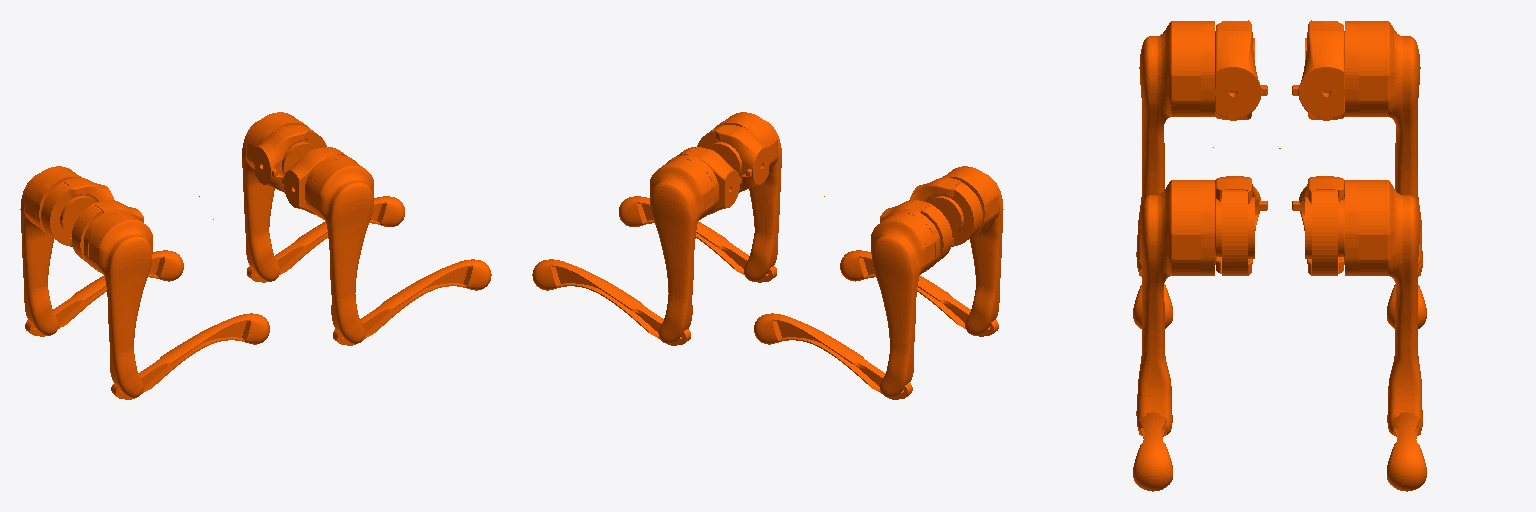
--- What the picture shows (computed from the rendered views, not written in the file) ---
Views: 3 orthographic renders of the robot side by side, from view 1: azimuth 30°, elevation 25°; view 2: azimuth 150°, elevation 25°; view 3: azimuth 270°, elevation 25°.
Model widowGo1 with 36 links and 35 joints (17 revolute, 2 prismatic, 16 fixed), rooted at base, posed joints at zero except 6 at the middle of their limits (widow_left_finger = 0.026, widow_right_finger = -0.026, FR_calf_joint = -1.78, FL_calf_joint = -1.78, RR_calf_joint = -1.78, RL_calf_joint = -1.78).
Links seen in each view (by area): view 1: RR_thigh, FR_thigh, RL_thigh, FL_thigh, RR_calf, FR_calf, FL_hip, RL_hip, RL_calf, FL_calf, FR_hip, RR_hip; view 2: RL_thigh, FL_thigh, RR_thigh, FR_thigh, RL_calf, FL_calf, FR_hip, RR_hip, RR_calf, FR_calf, FL_hip, RL_hip; view 3: FR_thigh, FL_thigh, RR_thigh, RL_thigh, FR_hip, FL_hip, RR_hip, RL_hip, FR_calf, FL_calf, RR_calf, RL_calf.
Link boxes in pixels (<box>): RR_thigh: <box>84,209,152,397</box>; FR_thigh: <box>305,155,373,343</box>; RL_thigh: <box>20,166,81,335</box>; FL_thigh: <box>242,112,308,281</box>; RR_calf: <box>111,313,269,399</box>; FR_calf: <box>333,259,491,345</box>; FL_hip: <box>255,125,326,192</box>; RL_hip: <box>41,177,114,246</box>; RL_calf: <box>25,250,183,336</box>; FL_calf: <box>247,196,404,282</box>; FR_hip: <box>282,147,347,214</box>; RR_hip: <box>72,200,143,262</box>; RL_thigh: <box>871,209,939,397</box>; FL_thigh: <box>650,155,718,343</box>; RR_thigh: <box>942,166,1003,335</box>; FR_thigh: <box>715,112,781,281</box>; RL_calf: <box>754,313,912,399</box>; FL_calf: <box>532,259,690,345</box>; FR_hip: <box>697,125,768,192</box>; RR_hip: <box>909,177,982,246</box>; RR_calf: <box>840,250,998,336</box>; FR_calf: <box>619,196,776,282</box>; FL_hip: <box>676,147,741,214</box>; RL_hip: <box>880,200,951,262</box>; FR_thigh: <box>1136,180,1214,435</box>; FL_thigh: <box>1345,180,1422,435</box>; RR_thigh: <box>1136,21,1214,271</box>; RL_thigh: <box>1345,21,1422,271</box>; FR_hip: <box>1215,176,1267,275</box>; FL_hip: <box>1292,176,1344,275</box>; RR_hip: <box>1215,20,1267,120</box>; RL_hip: <box>1292,20,1344,120</box>; FR_calf: <box>1133,412,1172,491</box>; FL_calf: <box>1387,412,1426,491</box>; RR_calf: <box>1133,258,1172,328</box>; RL_calf: <box>1387,258,1426,328</box>.
Bounding box of the posed robot: 0.6549 × 0.294 × 0.2793 m (x, y, z).
Meshes: 14 distinct files referenced, 12 mesh visuals loaded (4 Collada DAE); not drawn: 11 (reference not matched to a file when rendering).

URDF robot description (widowGo1):
<?xml version="1.0" ?>
<!-- =================================================================================== -->
<!-- |    This document was autogenerated by xacro from robot.xacro                    | -->
<!-- |    EDITING THIS FILE BY HAND IS NOT RECOMMENDED                                 | -->
<!-- =================================================================================== -->
<robot name="widowGo1">
  <material name="black">
    <color rgba="0.0 0.0 0.0 1.0"/>
  </material>
  <material name="blue">
    <color rgba="0.0 0.0 0.8 1.0"/>
  </material>
  <material name="green">
    <color rgba="0.0 0.8 0.0 1.0"/>
  </material>
  <material name="grey">
    <color rgba="0.2 0.2 0.2 1.0"/>
  </material>
  <material name="silver">
    <color rgba="0.913725490196 0.913725490196 0.847058823529 1.0"/>
  </material>
  <material name="orange">
    <color rgba="1.0 0.423529411765 0.0392156862745 1.0"/>
  </material>
  <material name="brown">
    <color rgba="0.870588235294 0.811764705882 0.764705882353 1.0"/>
  </material>
  <material name="red">
    <color rgba="0.8 0.0 0.0 1.0"/>
  </material>
  <material name="white">
    <color rgba="1.0 1.0 1.0 1.0"/>
  </material>
  <!-- ros_control plugin -->
  <gazebo>
    <plugin filename="libgazebo_ros_control.so" name="gazebo_ros_control">
      <robotNamespace>/go1_gazebo</robotNamespace>
      <robotSimType>gazebo_ros_control/DefaultRobotHWSim</robotSimType>
    </plugin>
  </gazebo>
  <!-- Show the trajectory of trunk center. -->
  <gazebo>
    <plugin filename="libLinkPlot3DPlugin.so" name="3dplot">
      <frequency>10</frequency>
      <plot>
        <link>base</link>
        <pose>0 0 0 0 0 0</pose>
        <material>Gazebo/Yellow</material>
      </plot>
    </plugin>
  </gazebo>
  <!-- Show the trajectory of foot. You can add another trajectory about another foot. -->
  <!-- <gazebo>
        <plugin name="3dplot" filename="libLinkPlot3DPlugin.so">
            <frequency>100</frequency>
            <plot>
                <link>FL_foot</link>
                <pose>0 0 0 0 0 0</pose>
                <material>Gazebo/Green</material>
            </plot>
        </plugin>
    </gazebo> -->
  <gazebo>
    <plugin filename="libgazebo_ros_force.so" name="gazebo_ros_force">
      <bodyName>trunk</bodyName>
      <topicName>/apply_force/trunk</topicName>
    </plugin>
  </gazebo>
  <gazebo reference="imu_link">
    <gravity>true</gravity>
    <sensor name="imu_sensor" type="imu">
      <always_on>true</always_on>
      <update_rate>1000</update_rate>
      <visualize>true</visualize>
      <topic>__default_topic__</topic>
      <plugin filename="libgazebo_ros_imu_sensor.so" name="imu_plugin">
        <topicName>trunk_imu</topicName>
        <bodyName>imu_link</bodyName>
        <updateRateHZ>1000.0</updateRateHZ>
        <gaussianNoise>0.0</gaussianNoise>
        <xyzOffset>0 0 0</xyzOffset>
        <rpyOffset>0 0 0</rpyOffset>
        <frameName>imu_link</frameName>
      </plugin>
      <pose>0 0 0 0 0 0</pose>
    </sensor>
  </gazebo>
  <!-- Depth camera -->
  <!-- <gazebo>
        <plugin name="camera_plugin" filename="libgazebo_ros_openni_kinect.so">
            <baseline>0.025</baseline>
            <always_on>true</always_on>
            <updateRate>0.0</updateRate>
            <cameraName>unitree_camera_left</cameraName>
            <frameName>depthCamera_link_left</frameName>
            <imageTopicName>rgb/imageRaw_left</imageTopicName>
            <depthImageTopicName>depth/imageRaw_left</depthImageTopicName>
            <pointCloudTopicName>depth/points_left</pointCloudTopicName>
            <cameraInfoTopicName>rgb/cameraInfo_left</cameraInfoTopicName>              
            <depthImageCameraInfoTopicName>depth/cameraInfo_left</depthImageCameraInfoTopicName>            
            <pointCloudCutoff>0.1</pointCloudCutoff>                
            <pointCloudCutoffMax>1.5</pointCloudCutoffMax>                
            <distortionK1>0.0</distortionK1>
            <distortionK2>0.0</distortionK2>
            <distortionK3>0.0</distortionK3>
            <distortionT1>0.0</distortionT1>
            <distortionT2>0.0</distortionT2>
            <CxPrime>0.0</CxPrime>
            <Cx>0.0045</Cx>
            <Cy>0.0039</Cy>
            <focalLength>0.004</focalLength>
            <hackBaseline>0.0</hackBaseline>
        </plugin>
    </gazebo> -->
  <!-- <gazebo reference="depthCamera_link_left">
        <sensor name="unitree_camera_left" type="depth_camera">
            <update_rate>16</update_rate>
            <always_on>true</always_on>
            <visualize>true</visualize>
            <camera>
                <horizontal_fov>2.094</horizontal_fov>
                <image>
                    <width>928</width>
                    <height>800</height>
                    <format>R8G8B8</format>
                </image>
                <depth_camera></depth_camera>
                <clip>
                    <near>0.1</near>
                    <far>100</far>
                </clip>
            </camera>
            <plugin name="camera_plugin" filename="libgazebo_ros_openni_kinect.so">
                <baseline>0.025</baseline>
                <always_on>true</always_on>
                <updateRate>0.0</updateRate>
                <cameraName>unitree_camera_left</cameraName>
                <frameName>depthCamera_link_left</frameName>
                <imageTopicName>rgb/imageRaw_left</imageTopicName>
                <depthImageTopicName>depth/imageRaw_left</depthImageTopicName>
                <pointCloudTopicName>depth/points_left</pointCloudTopicName>
                <cameraInfoTopicName>rgb/cameraInfo_left</cameraInfoTopicName>              
                <depthImageCameraInfoTopicName>depth/cameraInfo_left</depthImageCameraInfoTopicName>            
                <pointCloudCutoff>0.1</pointCloudCutoff>                
                <pointCloudCutoffMax>1.5</pointCloudCutoffMax>                
                <distortionK1>0.0</distortionK1>
                <distortionK2>0.0</distortionK2>
                <distortionK3>0.0</distortionK3>
                <distortionT1>0.0</distortionT1>
                <distortionT2>0.0</distortionT2>
                <CxPrime>0.0</CxPrime>
                <Cx>0.0045</Cx>
                <Cy>0.0039</Cy>
                <focalLength>0.004</focalLength>
                <hackBaseline>0.0</hackBaseline>
            </plugin>
        </sensor>
    </gazebo> -->
  <gazebo reference="depthCamera_link_left">
    <sensor name="camera_link_camera" type="depth">
      <update_rate>20</update_rate>
      <camera>
        <horizontal_fov>1.047198</horizontal_fov>
        <image>
          <width>640</width>
          <height>480</height>
          <format>R8G8B8</format>
        </image>
        <clip>
          <near>0.05</near>
          <far>3</far>
        </clip>
      </camera>
      <plugin filename="libgazebo_ros_openni_kinect.so" name="camera_link_controller">
        <baseline>0.2</baseline>
        <alwaysOn>true</alwaysOn>
        <updateRate>1.0</updateRate>
        <cameraName>camera_link_ir</cameraName>
        <imageTopicName>/camera_link/color/image_raw</imageTopicName>
        <cameraInfoTopicName>/camera_link/color/camera_info</cameraInfoTopicName>
        <depthImageTopicName>/camera_link/depth/image_raw</depthImageTopicName>
        <depthImageInfoTopicName>/camera_link/depth/camera_info</depthImageInfoTopicName>
        <pointCloudTopicName>/camera_link/depth/points</pointCloudTopicName>
        <frameName>depthCamera_link_left</frameName>
        <pointCloudCutoff>0.5</pointCloudCutoff>
        <pointCloudCutoffMax>3.0</pointCloudCutoffMax>
        <distortionK1>0.00000001</distortionK1>
        <distortionK2>0.00000001</distortionK2>
        <distortionK3>0.00000001</distortionK3>
        <distortionT1>0.00000001</distortionT1>
        <distortionT2>0.00000001</distortionT2>
        <CxPrime>0</CxPrime>
        <Cx>0</Cx>
        <Cy>0</Cy>
        <focalLength>0</focalLength>
        <hackBaseline>0</hackBaseline>
      </plugin>
    </sensor>
  </gazebo>
  <!-- Foot contacts. -->
  <gazebo reference="FR_calf">
    <sensor name="FR_foot_contact" type="contact">
      <update_rate>100</update_rate>
      <plugin filename="libunitreeFootContactPlugin.so" name="contactPlugin"/>
      <contact>
        <collision>FR_calf_fixed_joint_lump__FR_foot_collision_1</collision>
      </contact>
    </sensor>
  </gazebo>
  <gazebo reference="FL_calf">
    <sensor name="FL_foot_contact" type="contact">
      <update_rate>100</update_rate>
      <plugin filename="libunitreeFootContactPlugin.so" name="contactPlugin"/>
      <contact>
        <collision>FL_calf_fixed_joint_lump__FL_foot_collision_1</collision>
      </contact>
    </sensor>
  </gazebo>
  <gazebo reference="RR_calf">
    <sensor name="RR_foot_contact" type="contact">
      <update_rate>100</update_rate>
      <plugin filename="libunitreeFootContactPlugin.so" name="contactPlugin"/>
      <contact>
        <collision>RR_calf_fixed_joint_lump__RR_foot_collision_1</collision>
      </contact>
    </sensor>
  </gazebo>
  <gazebo reference="RL_calf">
    <sensor name="RL_foot_contact" type="contact">
      <update_rate>100</update_rate>
      <plugin filename="libunitreeFootContactPlugin.so" name="contactPlugin"/>
      <contact>
        <collision>RL_calf_fixed_joint_lump__RL_foot_collision_1</collision>
      </contact>
    </sensor>
  </gazebo>
  <!-- Visualization of Foot contacts. -->
  <gazebo reference="FR_foot">
    <visual>
      <plugin filename="libunitreeDrawForcePlugin.so" name="drawForcePlugin">
        <topicName>FR_foot_contact</topicName>
      </plugin>
    </visual>
  </gazebo>
  <gazebo reference="FL_foot">
    <visual>
      <plugin filename="libunitreeDrawForcePlugin.so" name="drawForcePlugin">
        <topicName>FL_foot_contact</topicName>
      </plugin>
    </visual>
  </gazebo>
  <gazebo reference="RR_foot">
    <visual>
      <plugin filename="libunitreeDrawForcePlugin.so" name="drawForcePlugin">
        <topicName>RR_foot_contact</topicName>
      </plugin>
    </visual>
  </gazebo>
  <gazebo reference="RL_foot">
    <visual>
      <plugin filename="libunitreeDrawForcePlugin.so" name="drawForcePlugin">
        <topicName>RL_foot_contact</topicName>
      </plugin>
    </visual>
  </gazebo>
  <gazebo reference="base">
    <material>Gazebo/Green</material>
    <turnGravityOff>false</turnGravityOff>
  </gazebo>
  <gazebo reference="trunk">
    <mu1>0.2</mu1>
    <mu2>0.2</mu2>
    <kp value="1000000.0"/>
    <kd value="1.0"/>
  </gazebo>
  <gazebo reference="stick_link">
    <mu1>0.2</mu1>
    <mu2>0.2</mu2>
    <material>Gazebo/White</material>
  </gazebo>
  <gazebo reference="imu_link">
    <mu1>0.2</mu1>
    <mu2>0.2</mu2>
    <material>Gazebo/Red</material>
  </gazebo>
  <!-- FL leg -->
  <gazebo reference="FL_hip">
    <mu1>0.2</mu1>
    <mu2>0.2</mu2>
    <material>Gazebo/DarkGrey</material>
  </gazebo>
  <gazebo reference="FL_thigh">
    <mu1>0.2</mu1>
    <mu2>0.2</mu2>
    <self_collide>1</self_collide>
    <material>Gazebo/DarkGrey</material>
    <kp value="1000000.0"/>
    <kd value="1.0"/>
  </gazebo>
  <gazebo reference="FL_calf">
    <mu1>0.2</mu1>
    <mu2>0.2</mu2>
    <self_collide>1</self_collide>
  </gazebo>
  <gazebo reference="FL_foot">
    <mu1>0.6</mu1>
    <mu2>0.6</mu2>
    <self_collide>1</self_collide>
    <material>Gazebo/DarkGrey</material>
    <kp value="1000000.0"/>
    <kd value="1.0"/>
  </gazebo>
  <!-- FR leg -->
  <gazebo reference="FR_hip">
    <mu1>0.2</mu1>
    <mu2>0.2</mu2>
    <material>Gazebo/DarkGrey</material>
  </gazebo>
  <gazebo reference="FR_thigh">
    <mu1>0.2</mu1>
    <mu2>0.2</mu2>
    <self_collide>1</self_collide>
    <material>Gazebo/DarkGrey</material>
    <kp value="1000000.0"/>
    <kd value="1.0"/>
  </gazebo>
  <gazebo reference="FR_calf">
    <mu1>0.2</mu1>
    <mu2>0.2</mu2>
    <self_collide>1</self_collide>
  </gazebo>
  <gazebo reference="FR_foot">
    <mu1>0.6</mu1>
    <mu2>0.6</mu2>
    <self_collide>1</self_collide>
    <material>Gazebo/DarkGrey</material>
    <kp value="1000000.0"/>
    <kd value="1.0"/>
  </gazebo>
  <!-- RL leg -->
  <gazebo reference="RL_hip">
    <mu1>0.2</mu1>
    <mu2>0.2</mu2>
    <material>Gazebo/DarkGrey</material>
  </gazebo>
  <gazebo reference="RL_thigh">
    <mu1>0.2</mu1>
    <mu2>0.2</mu2>
    <self_collide>1</self_collide>
    <material>Gazebo/DarkGrey</material>
    <kp value="1000000.0"/>
    <kd value="1.0"/>
  </gazebo>
  <gazebo reference="RL_calf">
    <mu1>0.2</mu1>
    <mu2>0.2</mu2>
    <self_collide>1</self_collide>
  </gazebo>
  <gazebo reference="RL_foot">
    <mu1>0.6</mu1>
    <mu2>0.6</mu2>
    <self_collide>1</self_collide>
    <material>Gazebo/DarkGrey</material>
    <kp value="1000000.0"/>
    <kd value="1.0"/>
  </gazebo>
  <!-- RR leg -->
  <gazebo reference="RR_hip">
    <mu1>0.2</mu1>
    <mu2>0.2</mu2>
    <material>Gazebo/DarkGrey</material>
  </gazebo>
  <gazebo reference="RR_thigh">
    <mu1>0.2</mu1>
    <mu2>0.2</mu2>
    <self_collide>1</self_collide>
    <material>Gazebo/DarkGrey</material>
    <kp value="1000000.0"/>
    <kd value="1.0"/>
  </gazebo>
  <gazebo reference="RR_calf">
    <mu1>0.2</mu1>
    <mu2>0.2</mu2>
    <self_collide>1</self_collide>
  </gazebo>
  <gazebo reference="RR_foot">
    <mu1>0.6</mu1>
    <mu2>0.6</mu2>
    <self_collide>1</self_collide>
    <material>Gazebo/DarkGrey</material>
    <kp value="1000000.0"/>
    <kd value="1.0"/>
  </gazebo>
  <!-- <xacro:include filename="$(find go1_gazebo)/launch/stairs.urdf.xacro"/> -->
  <!-- <xacro:stairs stairs="15" xpos="0" ypos="0" zpos="0" /> -->
  <!-- Debug mode will hung up the robot, use "true" or "false" to switch it. -->
  <!-- <xacro:if value="$(arg DEBUG)">
    <link name="world"/>
    <joint name="base_static_joint" type="fixed">
      <origin rpy="0 0 0" xyz="0 0 0"/>
      <parent link="world"/>
      <child link="base"/>
    </joint>
  </xacro:if>  -->
  <link name="base">
    <visual>
      <origin rpy="0 0 0" xyz="0 0 0"/>
      <geometry>
        <box size="0.001 0.001 0.001"/>
      </geometry>
    </visual>
  </link>

  <!-- widow x config -->
  <joint name="widow_mount" type="fixed">
    <origin rpy="0 0 0" xyz="0.03 0 0.057"/>
    <parent link="base"/>
    <child link="wx250/base_link"/>
  </joint>
  <link name="wx250/base_link">
    <visual>
      <origin rpy="0 0 1.5707963267948966" xyz="0 0 0"/>
      <geometry>
        <mesh filename="../meshes/wx250_meshes/wx250_1_base.stl" scale="0.001 0.001 0.001"/>
      </geometry>
      <material name="black"/>
    </visual>
    <collision>
      <origin rpy="0 0 1.5707963267948966" xyz="0 0 0"/>
      <geometry>
        <mesh filename="../meshes/wx250_meshes/wx250_1_base.stl" scale="0.001 0.001 0.001"/>
      </geometry>
    </collision>
    <inertial>
      <origin rpy="0 0 1.5707963267948966" xyz="-0.0380446000 0.0006138920 0.0193354000"/>
      <mass value="0.538736"/>
      <inertia ixx="0.0021150000" ixy="-0.0000163500" ixz="0.0000006998" iyy="0.0006921000" iyz="0.0000464200" izz="0.0025240000"/>
    </inertial>
  </link>
  <joint name="widow_waist" type="revolute">
    <axis xyz="0 0 1"/>
    <!-- <limit effort="10" lower="-3.141582653589793" upper="3.141582653589793" velocity="3.141592653589793"/> -->
    <limit effort="10" velocity="3.141592653589793"/>
    <origin rpy="0 0 0" xyz="0 0 0.072"/>
    <parent link="wx250/base_link"/>
    <child link="wx250/shoulder_link"/>
    <dynamics friction="0"/>
  </joint>
  <transmission name="trans_waist">
    <type>transmission_interface/SimpleTransmission</type>
    <joint name="widow_waist">
      <hardwareInterface>hardware_interface/EffortJointInterface</hardwareInterface>
    </joint>
    <actuator name="waist_motor">
      <mechanicalReduction>1</mechanicalReduction>
    </actuator>
  </transmission>
  <link name="wx250/shoulder_link">
    <visual>
      <origin rpy="0 0 1.5707963267948966" xyz="0 0 -0.003"/>
      <geometry>
        <mesh filename="../meshes/wx250_meshes/wx250_2_shoulder.stl" scale="0.001 0.001 0.001"/>
      </geometry>
      <material name="black"/>
    </visual>
    <collision>
      <origin rpy="0 0 1.5707963267948966" xyz="0 0 -0.003"/>
      <geometry>
        <mesh filename="../meshes/wx250_meshes/wx250_2_shoulder.stl" scale="0.001 0.001 0.001"/>
      </geometry>
    </collision>
    <inertial>
      <origin rpy="0 0 1.5707963267948966" xyz="0.0000223482 0.0000414609 0.0066287000"/>
      <mass value="0.480879"/>
      <inertia ixx="0.0003790000" ixy="0.0000000022" ixz="-0.0000003561" iyy="0.0005557000" iyz="0.0000012245" izz="0.0005889000"/>
    </inertial>
  </link>
  <joint name="widow_shoulder" type="revolute">
    <axis xyz="0 1 0"/>
    <limit effort="20" lower="-1.8849555921538759" upper="1.9896753472735358" velocity="3.141592653589793"/>
    <origin rpy="0 0 0" xyz="0 0 0.03865"/>
    <parent link="wx250/shoulder_link"/>
    <child link="wx250/upper_arm_link"/>
    <dynamics friction="0"/>
  </joint>
  <transmission name="trans_shoulder">
    <type>transmission_interface/SimpleTransmission</type>
    <joint name="widow_shoulder">
      <hardwareInterface>hardware_interface/EffortJointInterface</hardwareInterface>
    </joint>
    <actuator name="shoulder_motor">
      <mechanicalReduction>1</mechanicalReduction>
    </actuator>
  </transmission>
  <link name="wx250/upper_arm_link">
    <visual>
      <origin rpy="0 0 1.5707963267948966" xyz="0 0 0"/>
      <geometry>
        <mesh filename="../meshes/wx250_meshes/wx250_3_upper_arm.stl" scale="0.001 0.001 0.001"/>
      </geometry>
      <material name="black"/>
    </visual>
    <collision>
      <origin rpy="0 0 1.5707963267948966" xyz="0 0 0"/>
      <geometry>
        <mesh filename="../meshes/wx250_meshes/wx250_3_upper_arm.stl" scale="0.001 0.001 0.001"/>
      </geometry>
    </collision>
    <inertial>
      <origin rpy="0 0 1.5707963267948966" xyz="0.0171605000 0.0000002725 0.1913230000"/>
      <mass value="0.430811"/>
      <inertia ixx="0.0034630000" ixy="-0.0000000001" ixz="-0.0000000002" iyy="0.0035870000" iyz="0.0004272000" izz="0.0004566000"/>
    </inertial>
  </link>
  <joint name="widow_elbow" type="revolute">
    <axis xyz="0 1 0"/>
    <limit effort="15" lower="-2.1467549799530254" upper="1.6057029118347832" velocity="3.141592653589793"/>
    <origin rpy="0 0 0" xyz="0.04975 0 0.25"/>
    <parent link="wx250/upper_arm_link"/>
    <child link="wx250/forearm_link"/>
    <dynamics friction="0"/>
  </joint>
  <transmission name="trans_elbow">
    <type>transmission_interface/SimpleTransmission</type>
    <joint name="widow_elbow">
      <hardwareInterface>hardware_interface/EffortJointInterface</hardwareInterface>
    </joint>
    <actuator name="elbow_motor">
      <mechanicalReduction>1</mechanicalReduction>
    </actuator>
  </transmission>
  <link name="wx250/forearm_link">
    <visual>
      <origin rpy="0 0 1.5707963267948966" xyz="0 0 0"/>
      <geometry>
        <mesh filename="../meshes/wx250_meshes/wx250_4_forearm.stl" scale="0.001 0.001 0.001"/>
      </geometry>
      <material name="black"/>
    </visual>
    <collision>
      <origin rpy="0 0 1.5707963267948966" xyz="0 0 0"/>
      <geometry>
        <mesh filename="../meshes/wx250_meshes/wx250_4_forearm.stl" scale="0.001 0.001 0.001"/>
      </geometry>
    </collision>
    <inertial>
      <origin rpy="0 0 1.5707963267948966" xyz="0.1534230000 -0.0001179685 -0.0004390000"/>
      <mass value="0.297673"/>
      <inertia ixx="0.0021760000" ixy="-0.0000030658" ixz="0.0000000000" iyy="0.0000575700" iyz="0.0000000000" izz="0.0021860000"/>
    </inertial>
  </link>
  <joint name="widow_wrist_angle" type="revolute">
    <axis xyz="0 1 0"/>
    <limit effort="5" lower="-1.7453292519943295" upper="2.1467549799530254" velocity="3.141592653589793"/>
    <origin rpy="0 0 0" xyz="0.25 0 0"/>
    <parent link="wx250/forearm_link"/>
    <child link="wx250/wrist_link"/>
    <dynamics friction="0"/>
  </joint>
  <transmission name="trans_wrist_angle">
    <type>transmission_interface/SimpleTransmission</type>
    <joint name="widow_wrist_angle">
      <hardwareInterface>hardware_interface/EffortJointInterface</hardwareInterface>
    </joint>
    <actuator name="wrist_angle_motor">
      <mechanicalReduction>1</mechanicalReduction>
    </actuator>
  </transmission>
  <link name="wx250/wrist_link">
    <visual>
      <origin rpy="0 0 1.5707963267948966" xyz="0 0 0"/>
      <geometry>
        <mesh filename="../meshes/wx250_meshes/wx250_5_wrist.stl" scale="0.001 0.001 0.001"/>
      </geometry>
      <material name="black"/>
    </visual>
    <collision>
      <origin rpy="0 0 1.5707963267948966" xyz="0 0 0"/>
      <geometry>
        <mesh filename="../meshes/wx250_meshes/wx250_5_wrist.stl" scale="0.001 0.001 0.001"/>
      </geometry>
    </collision>
    <inertial>
      <origin rpy="0 0 1.5707963267948966" xyz="0.0423600000 -0.0000106630 0.0105770000"/>
      <mass value="0.084957"/>
      <inertia ixx="0.0000308200" ixy="0.0000000191" ixz="0.0000000023" iyy="0.0000282200" iyz="0.0000025481" izz="0.0000315200"/>
    </inertial>
  </link>
  <joint name="widow_wrist_rotate" type="revolute">
    <axis xyz="1 0 0"/>
    <limit effort="1" lower="-3.141582653589793" upper="3.141582653589793" velocity="3.141592653589793"/>
    <origin rpy="0 0 0" xyz="0.065 0 0"/>
    <parent link="wx250/wrist_link"/>
    <child link="wx250/gripper_link"/>
    <dynamics friction="0"/>
  </joint>
  <transmission name="trans_wrist_rotate">
    <type>transmission_interface/SimpleTransmission</type>
    <joint name="widow_wrist_rotate">
      <hardwareInterface>hardware_interface/EffortJointInterface</hardwareInterface>
    </joint>
    <actuator name="wrist_rotate_motor">
      <mechanicalReduction>1</mechanicalReduction>
    </actuator>
  </transmission>
  <link name="wx250/gripper_link">
    <visual>
      <origin rpy="0 0 1.5707963267948966" xyz="-0.02 0 0"/>
      <geometry>
        <mesh filename="../meshes/wx250_meshes/wx250_6_gripper.stl" scale="0.001 0.001 0.001"/>
      </geometry>
      <material name="black"/>
    </visual>
    <collision>
      <origin rpy="0 0 1.5707963267948966" xyz="-0.02 0 0"/>
      <geometry>
        <mesh filename="../meshes/wx250_meshes/wx250_6_gripper.stl" scale="0.001 0.001 0.001"/>
      </geometry>
    </collision>
    <inertial>
      <origin rpy="0 0 1.5707963267948966" xyz="0.0216310000 0.0000002516 0.0114100000"/>
      <mass value="0.072885"/>
      <inertia ixx="0.0000253700" ixy="0.0000000000" ixz="0.0000000000" iyy="0.0000183600" iyz="0.0000004340" izz="0.0000167400"/>
    </inertial>
  </link>
  <joint name="ee_arm" type="fixed">
    <axis xyz="1 0 0"/>
    <origin rpy="0 0 0" xyz="0.043 0 0"/>
    <parent link="wx250/gripper_link"/>
    <child link="wx250/ee_arm_link"/>
  </joint>
  <link name="wx250/ee_arm_link">
    <inertial>
      <mass value="0.001"/>
      <inertia ixx="0.001" ixy="0" ixz="0" iyy="0.001" iyz="0" izz="0.001"/>
    </inertial>
  </link>
  <joint name="gripper" type="fixed">
    <axis xyz="1 0 0"/>
    <limit effort="1" velocity="3.141592653589793"/>
    <origin rpy="0 0 0" xyz="0.0055 0 0"/>
    <parent link="wx250/ee_arm_link"/>
    <child link="wx250/gripper_prop_link"/>
    <dynamics friction="0"/>
  </joint>
  <!-- <transmission name="trans_gripper">
    <type>transmission_interface/SimpleTransmission</type>
    <joint name="gripper">
      <hardwareInterface>hardware_interface/EffortJointInterface</hardwareInterface>
    </joint>
    <actuator name="gripper_motor">
      <mechanicalReduction>1</mechanicalReduction>
    </actuator>
  </transmission> -->
  <link name="wx250/gripper_prop_link">
    <visual>
      <origin rpy="0 0 1.5707963267948966" xyz="-0.0685 0 0"/>
      <geometry>
        <mesh filename="../meshes/wx250_meshes/wx250_7_gripper_prop.stl" scale="0.001 0.001 0.001"/>
      </geometry>
      <material name="black"/>
    </visual>
    <collision>
      <origin rpy="0 0 1.5707963267948966" xyz="-0.0685 0 0"/>
      <geometry>
        <mesh filename="../meshes/wx250_meshes/wx250_7_gripper_prop.stl" scale="0.001 0.001 0.001"/>
      </geometry>
    </collision>
    <inertial>
      <origin rpy="0 0 1.5707963267948966" xyz="0.0008460000 -0.0000016817 0.0000420000"/>
      <mass value="0.00434"/>
      <inertia ixx="0.0000005923" ixy="0.0000000000" ixz="0.0000003195" iyy="0.0000011156" iyz="-0.0000000004" izz="0.0000005743"/>
    </inertial>
  </link>
  <!-- If the AR tag is being used, then add the AR tag mount -->
  <!-- If the gripper bar is being used, then also add the gripper bar -->
  <joint name="gripper_bar" type="fixed">
    <axis xyz="1 0 0"/>
    <origin rpy="0 0 0" xyz="0 0 0"/>
    <parent link="wx250/ee_arm_link"/>
    <child link="wx250/gripper_bar_link"/>
  </joint>
  <link name="wx250/gripper_bar_link">
    <visual>
      <origin rpy="0 0 1.5707963267948966" xyz="-0.063 0 0"/>
      <geometry>
        <mesh filename="../meshes/wx250_meshes/wx250_8_gripper_bar.stl" scale="0.001 0.001 0.001"/>
      </geometry>
      <material name="black"/>
    </visual>
    <collision>
      <origin rpy="0 0 1.5707963267948966" xyz="-0.063 0 0"/>
      <geometry>
        <mesh filename="../meshes/wx250_meshes/wx250_8_gripper_bar.stl" scale="0.001 0.001 0.001"/>
      </geometry>
    </collision>
    <inertial>
      <origin rpy="0 0 1.5707963267948966" xyz="0.0096870000 0.0000008177 0.0049620000"/>
      <mass value="0.034199"/>
      <inertia ixx="0.0000074125" ixy="-0.0000000008" ixz="-0.0000000006" iyy="0.0000284300" iyz="-0.0000013889" izz="0.0000286000"/>
    </inertial>
  </link>
  <joint name="ee_bar" type="fixed">
    <axis xyz="1 0 0"/>
    <origin rpy="0 0 0" xyz="0.023 0 0"/>
    <parent link="wx250/gripper_bar_link"/>
    <child link="wx250/fingers_link"/>
  </joint>
  <link name="wx250/fingers_link">
    <inertial>
      <mass value="0.001"/>
      <inertia ixx="0.001" ixy="0" ixz="0" iyy="0.001" iyz="0" izz="0.001"/>
    </inertial>
  </link>
  <!-- If the gripper fingers are being used, add those as well -->
  <joint name="widow_left_finger" type="prismatic">
    <axis xyz="0 1 0"/>
    <limit effort="5" lower="0.015" upper="0.037" velocity="1"/>
    <origin rpy="0 0 0" xyz="0 0 0"/>
    <parent link="wx250/fingers_link"/>
    <child link="wx250/left_finger_link"/>
    <dynamics friction="0"/>
  </joint>
  <transmission name="trans_left_finger">
    <type>transmission_interface/SimpleTransmission</type>
    <joint name="widow_left_finger">
      <hardwareInterface>hardware_interface/EffortJointInterface</hardwareInterface>
    </joint>
    <actuator name="left_finger_motor">
      <mechanicalReduction>1</mechanicalReduction>
    </actuator>
  </transmission>
  <link name="wx250/left_finger_link">
    <visual>
      <origin rpy="3.141592653589793 3.141592653589793 0" xyz="0 0.005 0"/>
      <geometry>
        <mesh filename="../meshes/wx250_meshes/wx250_9_gripper_finger.stl" scale="0.001 0.001 0.001"/>
      </geometry>
      <material name="black"/>
    </visual>
    <collision>
      <origin rpy="3.141592653589793 3.141592653589793 0" xyz="0 0.005 0"/>
      <geometry>
        <mesh filename="../meshes/wx250_meshes/wx250_9_gripper_finger.stl" scale="0.001 0.001 0.001"/>
      </geometry>
    </collision>
    <inertial>
      <origin rpy="3.141592653589793 3.141592653589793 1.5707963267948966" xyz="0.0138160000 0.0000000000 0.0000000000"/>
      <mass value="0.016246"/>
      <inertia ixx="0.0000047310" ixy="-0.0000004560" ixz="0.0000000000" iyy="0.0000015506" iyz="0.0000000000" izz="0.0000037467"/>
    </inertial>
  </link>
  <joint name="widow_right_finger" type="prismatic">
    <axis xyz="0 1 0"/>
    <limit effort="5" lower="-0.037" upper="-0.015" velocity="1"/>
    <origin rpy="0 0 0" xyz="0 0 0"/>
    <parent link="wx250/fingers_link"/>
    <child link="wx250/right_finger_link"/>
    <dynamics friction="0"/>
    <mimic joint="widow_left_finger" multiplier="-1" offset="0"/>
  </joint>
  <transmission name="trans_right_finger">
    <type>transmission_interface/SimpleTransmission</type>
    <joint name="widow_right_finger">
      <hardwareInterface>hardware_interface/EffortJointInterface</hardwareInterface>
    </joint>
    <actuator name="right_finger_motor">
      <mechanicalReduction>1</mechanicalReduction>
    </actuator>
  </transmission>
  <link name="wx250/right_finger_link">
    <visual>
      <origin rpy="0 3.141592653589793 0" xyz="0 -0.005 0"/>
      <geometry>
        <mesh filename="../meshes/wx250_meshes/wx250_9_gripper_finger.stl" scale="0.001 0.001 0.001"/>
      </geometry>
      <material name="black"/>
    </visual>
    <collision>
      <origin rpy="0 3.141592653589793 0" xyz="0 -0.005 0"/>
      <geometry>
        <mesh filename="../meshes/wx250_meshes/wx250_9_gripper_finger.stl" scale="0.001 0.001 0.001"/>
      </geometry>
    </collision>
    <inertial>
      <origin rpy="0 3.141592653589793 1.5707963267948966" xyz="0.0138160000 0.0000000000  0.0000000000"/>
      <mass value="0.016246"/>
      <inertia ixx="0.0000047310" ixy="0.0000004560" ixz="0.0000000000" iyy="0.0000015506" iyz="0.0000000000" izz="0.0000037467"/>
    </inertial>
  </link>
  <joint name="ee_gripper" type="fixed" dont_collapse="true">
    <axis xyz="1 0 0"/>
    <origin rpy="0 0 0" xyz="0.027575 0 0"/>
    <parent link="wx250/fingers_link"/>
    <child link="wx250/ee_gripper_link"/>
  </joint>
  <link name="wx250/ee_gripper_link">
    <inertial>
      <mass value="0.001"/>
      <inertia ixx="0.001" ixy="0" ixz="0" iyy="0.001" iyz="0" izz="0.001"/>
    </inertial>
  </link>
<!-- widow x config ends -->

  <joint name="floating_base" type="fixed" dont_collapse="true">
    <origin rpy="0 0 0" xyz="0 0 0"/>
    <parent link="base"/>
    <child link="trunk"/>
  </joint>
  <link name="trunk">
    <visual>
      <origin rpy="0 0 0" xyz="0 0 0"/>
      <geometry>
        <mesh filename="../meshes/trunk.dae" scale="1 1 1"/>
      </geometry>
      <material name="orange"/>
    </visual>
    <collision>
      <origin rpy="0 0 0" xyz="0 0 0"/>
      <geometry>
        <box size="0.3762 0.0935 0.114"/>
      </geometry>
    </collision>
    <inertial>
      <origin rpy="0 0 0" xyz="0.0223 0.002 -0.0005"/>
      <mass value="5.204"/>
      <inertia ixx="0.0168352186" ixy="0.0004636141" ixz="0.0002367952" iyy="0.0656071082" iyz="3.6671e-05" izz="0.0742720659"/>
    </inertial>
  </link>
  <joint name="imu_joint" type="fixed">
    <parent link="trunk"/>
    <child link="imu_link"/>
    <origin rpy="0 0 0" xyz="-0.01592 -0.06659 -0.00617"/>
  </joint>
  <link name="imu_link">
    <inertial>
      <mass value="0.001"/>
      <origin rpy="0 0 0" xyz="0 0 0"/>
      <inertia ixx="0.0001" ixy="0" ixz="0" iyy="0.0001" iyz="0" izz="0.0001"/>
    </inertial>
    <visual>
      <origin rpy="0 0 0" xyz="0 0 0"/>
      <geometry>
        <box size="0.001 0.001 0.001"/>
      </geometry>
      <!-- <material name="red"/> -->
    </visual>
    <collision>
      <origin rpy="0 0 0" xyz="0 0 0"/>
      <geometry>
        <box size=".001 .001 .001"/>
      </geometry>
    </collision>
  </link>
  <joint name="FR_hip_joint" type="revolute">
    <origin rpy="0 0 0" xyz="0.1881 -0.04675 0"/>
    <parent link="trunk"/>
    <child link="FR_hip"/>
    <axis xyz="1 0 0"/>
    <dynamics damping="0" friction="0"/>
    <limit effort="23.7" lower="-1.0471975512" upper="1.0471975512" velocity="30.1"/>
  </joint>
  <link name="FR_hip">
    <visual>
      <origin rpy="3.14159265359 0 0" xyz="0 0 0"/>
      <geometry>
        <mesh filename="../meshes/hip.dae" scale="1 1 1"/>
      </geometry>
      <material name="orange"/>
    </visual>
    <!-- <collision>
      <origin rpy="1.57079632679 0 0" xyz="0 0 0"/>
      <geometry>
        <cylinder length="0.04" radius="0.046"/>
      </geometry>
    </collision> -->
    <inertial>
      <origin rpy="0 0 0" xyz="-0.00541 0.00074 6e-06"/>
      <mass value="0.591"/>
      <inertia ixx="0.000374268192" ixy="-3.6844422e-05" ixz="-9.86754e-07" iyy="0.000635923669" iyz="1.172894e-06" izz="0.000457647394"/>
    </inertial>
  </link>
  <joint name="FR_hip_fixed" type="fixed">
    <origin rpy="0 0 0" xyz="0 -0.08 0"/>
    <parent link="FR_hip"/>
    <child link="FR_thigh_shoulder"/>
  </joint>
  <!-- this link is only for collision -->
  <link name="FR_thigh_shoulder">
    <!-- <collision>
      <origin rpy="1.57079632679 0 0" xyz="0 0 0"/>
      <geometry>
        <cylinder length="0.032" radius="0.041"/>
      </geometry>
    </collision> -->
  </link>
  <joint name="FR_thigh_joint" type="revolute">
    <origin rpy="0 0 0" xyz="0 -0.08 0"/>
    <parent link="FR_hip"/>
    <child link="FR_thigh"/>
    <axis xyz="0 1 0"/>
    <dynamics damping="0" friction="0"/>
    <limit effort="23.7" lower="-0.663225115758" upper="2.96705972839" velocity="30.1"/>
  </joint>
  <link name="FR_thigh">
    <visual>
      <origin rpy="0 0 0" xyz="0 0 0"/>
      <geometry>
        <mesh filename="../meshes/thigh_mirror.dae" scale="1 1 1"/>
      </geometry>
      <material name="orange"/>
    </visual>
    <collision>
      <origin rpy="0 1.57079632679 0" xyz="0 0 -0.1065"/>
      <geometry>
        <box size="0.213 0.0245 0.034"/>
      </geometry>
    </collision>
    <inertial>
      <origin rpy="0 0 0" xyz="-0.003468 0.018947 -0.032736"/>
      <mass value="0.92"/>
      <inertia ixx="0.005851561134" ixy="-1.783284e-06" ixz="0.000328291374" iyy="0.005596155105" iyz="-2.1430713e-05" izz="0.00107157026"/>
    </inertial>
  </link>
  <joint name="FR_calf_joint" type="revolute">
    <origin rpy="0 0 0" xyz="0 0 -0.213"/>
    <parent link="FR_thigh"/>
    <child link="FR_calf"/>
    <axis xyz="0 1 0"/>
    <dynamics damping="0" friction="0"/>
    <limit effort="23.7" lower="-2.72271363311" upper="-0.837758040957" velocity="30.1"/>
  </joint>
  <link name="FR_calf">
    <visual>
      <origin rpy="0 0 0" xyz="0 0 0"/>
      <geometry>
        <mesh filename="../meshes/calf.dae" scale="1 1 1"/>
      </geometry>
      <material name="orange"/>
    </visual>
    <collision>
      <origin rpy="0 1.57079632679 0" xyz="0 0 -0.1065"/>
      <geometry>
        <box size="0.213 0.016 0.016"/>
      </geometry>
    </collision>
    <inertial>
      <origin rpy="0 0 0" xyz="0.006286 0.001307 -0.122269"/>
      <mass value="0.131"/>
      <inertia ixx="0.002939186297" ixy="1.440899e-06" ixz="-0.00010535955" iyy="0.00295576935" iyz="-2.4397752e-05" izz="3.0273372e-05"/>
    </inertial>
  </link>
  <joint name="FR_foot_fixed" type="fixed" dont_collapse="true">
    <origin rpy="0 0 0" xyz="0 0 -0.213"/>
    <parent link="FR_calf"/>
    <child link="FR_foot"/>
  </joint>
  <link name="FR_foot">
    <visual>
      <origin rpy="0 0 0" xyz="0 0 0"/>
      <geometry>
        <sphere radius="0.01"/>
      </geometry>
      <material name="orange"/>
    </visual>
    <collision>
      <origin rpy="0 0 0" xyz="0 0 0"/>
      <geometry>
        <sphere radius="0.02"/>
      </geometry>
    </collision>
    <inertial>
      <mass value="0.06"/>
      <inertia ixx="9.6e-06" ixy="0.0" ixz="0.0" iyy="9.6e-06" iyz="0.0" izz="9.6e-06"/>
    </inertial>
  </link>
  <transmission name="FR_hip_tran">
    <type>transmission_interface/SimpleTransmission</type>
    <joint name="FR_hip_joint">
      <hardwareInterface>hardware_interface/EffortJointInterface</hardwareInterface>
    </joint>
    <actuator name="FR_hip_motor">
      <hardwareInterface>hardware_interface/EffortJointInterface</hardwareInterface>
      <mechanicalReduction>1</mechanicalReduction>
    </actuator>
  </transmission>
  <transmission name="FR_thigh_tran">
    <type>transmission_interface/SimpleTransmission</type>
    <joint name="FR_thigh_joint">
      <hardwareInterface>hardware_interface/EffortJointInterface</hardwareInterface>
    </joint>
    <actuator name="FR_thigh_motor">
      <hardwareInterface>hardware_interface/EffortJointInterface</hardwareInterface>
      <mechanicalReduction>1</mechanicalReduction>
    </actuator>
  </transmission>
  <transmission name="FR_calf_tran">
    <type>transmission_interface/SimpleTransmission</type>
    <joint name="FR_calf_joint">
      <hardwareInterface>hardware_interface/EffortJointInterface</hardwareInterface>
    </joint>
    <actuator name="FR_calf_motor">
      <hardwareInterface>hardware_interface/EffortJointInterface</hardwareInterface>
      <mechanicalReduction>1</mechanicalReduction>
    </actuator>
  </transmission>
  <joint name="FL_hip_joint" type="revolute">
    <origin rpy="0 0 0" xyz="0.1881 0.04675 0"/>
    <parent link="trunk"/>
    <child link="FL_hip"/>
    <axis xyz="1 0 0"/>
    <dynamics damping="0" friction="0"/>
    <limit effort="23.7" lower="-1.0471975512" upper="1.0471975512" velocity="30.1"/>
  </joint>
  <link name="FL_hip">
    <visual>
      <origin rpy="0 0 0" xyz="0 0 0"/>
      <geometry>
        <mesh filename="../meshes/hip.dae" scale="1 1 1"/>
      </geometry>
      <material name="orange"/>
    </visual>
    <!-- <collision>
      <origin rpy="1.57079632679 0 0" xyz="0 0 0"/>
      <geometry>
        <cylinder length="0.04" radius="0.046"/>
      </geometry>
    </collision> -->
    <inertial>
      <origin rpy="0 0 0" xyz="-0.00541 -0.00074 6e-06"/>
      <mass value="0.591"/>
      <inertia ixx="0.000374268192" ixy="3.6844422e-05" ixz="-9.86754e-07" iyy="0.000635923669" iyz="-1.172894e-06" izz="0.000457647394"/>
    </inertial>
  </link>
  <joint name="FL_hip_fixed" type="fixed">
    <origin rpy="0 0 0" xyz="0 0.08 0"/>
    <parent link="FL_hip"/>
    <child link="FL_thigh_shoulder"/>
  </joint>
  <!-- this link is only for collision -->
  <link name="FL_thigh_shoulder">
    <!-- <collision>
      <origin rpy="1.57079632679 0 0" xyz="0 0 0"/>
      <geometry>
        <cylinder length="0.032" radius="0.041"/>
      </geometry>
    </collision> -->
  </link>
  <joint name="FL_thigh_joint" type="revolute">
    <origin rpy="0 0 0" xyz="0 0.08 0"/>
    <parent link="FL_hip"/>
    <child link="FL_thigh"/>
    <axis xyz="0 1 0"/>
    <dynamics damping="0" friction="0"/>
    <limit effort="23.7" lower="-0.663225115758" upper="2.96705972839" velocity="30.1"/>
  </joint>
  <link name="FL_thigh">
    <visual>
      <origin rpy="0 0 0" xyz="0 0 0"/>
      <geometry>
        <mesh filename="../meshes/thigh.dae" scale="1 1 1"/>
      </geometry>
      <material name="orange"/>
    </visual>
    <collision>
      <origin rpy="0 1.57079632679 0" xyz="0 0 -0.1065"/>
      <geometry>
        <box size="0.213 0.0245 0.034"/>
      </geometry>
    </collision>
    <inertial>
      <origin rpy="0 0 0" xyz="-0.003468 -0.018947 -0.032736"/>
      <mass value="0.92"/>
      <inertia ixx="0.005851561134" ixy="1.783284e-06" ixz="0.000328291374" iyy="0.005596155105" iyz="2.1430713e-05" izz="0.00107157026"/>
    </inertial>
  </link>
  <joint name="FL_calf_joint" type="revolute">
    <origin rpy="0 0 0" xyz="0 0 -0.213"/>
    <parent link="FL_thigh"/>
    <child link="FL_calf"/>
    <axis xyz="0 1 0"/>
    <dynamics damping="0" friction="0"/>
    <limit effort="23.7" lower="-2.72271363311" upper="-0.837758040957" velocity="30.1"/>
  </joint>
  <link name="FL_calf">
    <visual>
      <origin rpy="0 0 0" xyz="0 0 0"/>
      <geometry>
        <mesh filename="../meshes/calf.dae" scale="1 1 1"/>
      </geometry>
      <material name="orange"/>
    </visual>
    <collision>
      <origin rpy="0 1.57079632679 0" xyz="0 0 -0.1065"/>
      <geometry>
        <box size="0.213 0.016 0.016"/>
      </geometry>
    </collision>
    <inertial>
      <origin rpy="0 0 0" xyz="0.006286 0.001307 -0.122269"/>
      <mass value="0.131"/>
      <inertia ixx="0.002939186297" ixy="1.440899e-06" ixz="-0.00010535955" iyy="0.00295576935" iyz="-2.4397752e-05" izz="3.0273372e-05"/>
    </inertial>
  </link>
  <joint name="FL_foot_fixed" type="fixed" dont_collapse="true">
    <origin rpy="0 0 0" xyz="0 0 -0.213"/>
    <parent link="FL_calf"/>
    <child link="FL_foot"/>
  </joint>
  <link name="FL_foot">
    <visual>
      <origin rpy="0 0 0" xyz="0 0 0"/>
      <geometry>
        <sphere radius="0.01"/>
      </geometry>
      <material name="orange"/>
    </visual>
    <collision>
      <origin rpy="0 0 0" xyz="0 0 0"/>
      <geometry>
        <sphere radius="0.02"/>
      </geometry>
    </collision>
    <inertial>
      <mass value="0.06"/>
      <inertia ixx="9.6e-06" ixy="0.0" ixz="0.0" iyy="9.6e-06" iyz="0.0" izz="9.6e-06"/>
    </inertial>
  </link>
  <transmission name="FL_hip_tran">
    <type>transmission_interface/SimpleTransmission</type>
    <joint name="FL_hip_joint">
      <hardwareInterface>hardware_interface/EffortJointInterface</hardwareInterface>
    </joint>
    <actuator name="FL_hip_motor">
      <hardwareInterface>hardware_interface/EffortJointInterface</hardwareInterface>
      <mechanicalReduction>1</mechanicalReduction>
    </actuator>
  </transmission>
  <transmission name="FL_thigh_tran">
    <type>transmission_interface/SimpleTransmission</type>
    <joint name="FL_thigh_joint">
      <hardwareInterface>hardware_interface/EffortJointInterface</hardwareInterface>
    </joint>
    <actuator name="FL_thigh_motor">
      <hardwareInterface>hardware_interface/EffortJointInterface</hardwareInterface>
      <mechanicalReduction>1</mechanicalReduction>
    </actuator>
  </transmission>
  <transmission name="FL_calf_tran">
    <type>transmission_interface/SimpleTransmission</type>
    <joint name="FL_calf_joint">
      <hardwareInterface>hardware_interface/EffortJointInterface</hardwareInterface>
    </joint>
    <actuator name="FL_calf_motor">
      <hardwareInterface>hardware_interface/EffortJointInterface</hardwareInterface>
      <mechanicalReduction>1</mechanicalReduction>
    </actuator>
  </transmission>
  <joint name="RR_hip_joint" type="revolute">
    <origin rpy="0 0 0" xyz="-0.1881 -0.04675 0"/>
    <parent link="trunk"/>
    <child link="RR_hip"/>
    <axis xyz="1 0 0"/>
    <dynamics damping="0" friction="0"/>
    <limit effort="23.7" lower="-1.0471975512" upper="1.0471975512" velocity="30.1"/>
  </joint>
  <link name="RR_hip">
    <visual>
      <origin rpy="3.14159265359 3.14159265359 0" xyz="0 0 0"/>
      <geometry>
        <mesh filename="../meshes/hip.dae" scale="1 1 1"/>
      </geometry>
      <material name="orange"/>
    </visual>
    <!-- <collision>
      <origin rpy="1.57079632679 0 0" xyz="0 0 0"/>
      <geometry>
        <cylinder length="0.04" radius="0.046"/>
      </geometry>
    </collision> -->
    <inertial>
      <origin rpy="0 0 0" xyz="0.00541 0.00074 6e-06"/>
      <mass value="0.591"/>
      <inertia ixx="0.000374268192" ixy="3.6844422e-05" ixz="9.86754e-07" iyy="0.000635923669" iyz="1.172894e-06" izz="0.000457647394"/>
    </inertial>
  </link>
  <joint name="RR_hip_fixed" type="fixed">
    <origin rpy="0 0 0" xyz="0 -0.08 0"/>
    <parent link="RR_hip"/>
    <child link="RR_thigh_shoulder"/>
  </joint>
  <!-- this link is only for collision -->
  <link name="RR_thigh_shoulder">
    <!-- <collision>
      <origin rpy="1.57079632679 0 0" xyz="0 0 0"/>
      <geometry>
        <cylinder length="0.032" radius="0.041"/>
      </geometry>
    </collision> -->
  </link>
  <joint name="RR_thigh_joint" type="revolute">
    <origin rpy="0 0 0" xyz="0 -0.08 0"/>
    <parent link="RR_hip"/>
    <child link="RR_thigh"/>
    <axis xyz="0 1 0"/>
    <dynamics damping="0" friction="0"/>
    <limit effort="23.7" lower="-0.663225115758" upper="2.96705972839" velocity="30.1"/>
  </joint>
  <link name="RR_thigh">
    <visual>
      <origin rpy="0 0 0" xyz="0 0 0"/>
      <geometry>
        <mesh filename="../meshes/thigh_mirror.dae" scale="1 1 1"/>
      </geometry>
      <material name="orange"/>
    </visual>
    <collision>
      <origin rpy="0 1.57079632679 0" xyz="0 0 -0.1065"/>
      <geometry>
        <box size="0.213 0.0245 0.034"/>
      </geometry>
    </collision>
    <inertial>
      <origin rpy="0 0 0" xyz="-0.003468 0.018947 -0.032736"/>
      <mass value="0.92"/>
      <inertia ixx="0.005851561134" ixy="-1.783284e-06" ixz="0.000328291374" iyy="0.005596155105" iyz="-2.1430713e-05" izz="0.00107157026"/>
    </inertial>
  </link>
  <joint name="RR_calf_joint" type="revolute">
    <origin rpy="0 0 0" xyz="0 0 -0.213"/>
    <parent link="RR_thigh"/>
    <child link="RR_calf"/>
    <axis xyz="0 1 0"/>
    <dynamics damping="0" friction="0"/>
    <limit effort="23.7" lower="-2.72271363311" upper="-0.837758040957" velocity="30.1"/>
  </joint>
  <link name="RR_calf">
    <visual>
      <origin rpy="0 0 0" xyz="0 0 0"/>
      <geometry>
        <mesh filename="../meshes/calf.dae" scale="1 1 1"/>
      </geometry>
      <material name="orange"/>
    </visual>
    <collision>
      <origin rpy="0 1.57079632679 0" xyz="0 0 -0.1065"/>
      <geometry>
        <box size="0.213 0.016 0.016"/>
      </geometry>
    </collision>
    <inertial>
      <origin rpy="0 0 0" xyz="0.006286 0.001307 -0.122269"/>
      <mass value="0.131"/>
      <inertia ixx="0.002939186297" ixy="1.440899e-06" ixz="-0.00010535955" iyy="0.00295576935" iyz="-2.4397752e-05" izz="3.0273372e-05"/>
    </inertial>
  </link>
  <joint name="RR_foot_fixed" type="fixed" dont_collapse="true">
    <origin rpy="0 0 0" xyz="0 0 -0.213"/>
    <parent link="RR_calf"/>
    <child link="RR_foot"/>
  </joint>
  <link name="RR_foot">
    <visual>
      <origin rpy="0 0 0" xyz="0 0 0"/>
      <geometry>
        <sphere radius="0.01"/>
      </geometry>
      <material name="orange"/>
    </visual>
    <collision>
      <origin rpy="0 0 0" xyz="0 0 0"/>
      <geometry>
        <sphere radius="0.02"/>
      </geometry>
    </collision>
    <inertial>
      <mass value="0.06"/>
      <inertia ixx="9.6e-06" ixy="0.0" ixz="0.0" iyy="9.6e-06" iyz="0.0" izz="9.6e-06"/>
    </inertial>
  </link>
  <transmission name="RR_hip_tran">
    <type>transmission_interface/SimpleTransmission</type>
    <joint name="RR_hip_joint">
      <hardwareInterface>hardware_interface/EffortJointInterface</hardwareInterface>
    </joint>
    <actuator name="RR_hip_motor">
      <hardwareInterface>hardware_interface/EffortJointInterface</hardwareInterface>
      <mechanicalReduction>1</mechanicalReduction>
    </actuator>
  </transmission>
  <transmission name="RR_thigh_tran">
    <type>transmission_interface/SimpleTransmission</type>
    <joint name="RR_thigh_joint">
      <hardwareInterface>hardware_interface/EffortJointInterface</hardwareInterface>
    </joint>
    <actuator name="RR_thigh_motor">
      <hardwareInterface>hardware_interface/EffortJointInterface</hardwareInterface>
      <mechanicalReduction>1</mechanicalReduction>
    </actuator>
  </transmission>
  <transmission name="RR_calf_tran">
    <type>transmission_interface/SimpleTransmission</type>
    <joint name="RR_calf_joint">
      <hardwareInterface>hardware_interface/EffortJointInterface</hardwareInterface>
    </joint>
    <actuator name="RR_calf_motor">
      <hardwareInterface>hardware_interface/EffortJointInterface</hardwareInterface>
      <mechanicalReduction>1</mechanicalReduction>
    </actuator>
  </transmission>
  <joint name="RL_hip_joint" type="revolute">
    <origin rpy="0 0 0" xyz="-0.1881 0.04675 0"/>
    <parent link="trunk"/>
    <child link="RL_hip"/>
    <axis xyz="1 0 0"/>
    <dynamics damping="0" friction="0"/>
    <limit effort="23.7" lower="-1.0471975512" upper="1.0471975512" velocity="30.1"/>
  </joint>
  <link name="RL_hip">
    <visual>
      <origin rpy="0 3.14159265359 0" xyz="0 0 0"/>
      <geometry>
        <mesh filename="../meshes/hip.dae" scale="1 1 1"/>
      </geometry>
      <material name="orange"/>
    </visual>
    <!-- <collision>
      <origin rpy="1.57079632679 0 0" xyz="0 0 0"/>
      <geometry>
        <cylinder length="0.04" radius="0.046"/>
      </geometry>
    </collision> -->
    <inertial>
      <origin rpy="0 0 0" xyz="0.00541 -0.00074 6e-06"/>
      <mass value="0.591"/>
      <inertia ixx="0.000374268192" ixy="-3.6844422e-05" ixz="9.86754e-07" iyy="0.000635923669" iyz="-1.172894e-06" izz="0.000457647394"/>
    </inertial>
  </link>
  <joint name="RL_hip_fixed" type="fixed">
    <origin rpy="0 0 0" xyz="0 0.08 0"/>
    <parent link="RL_hip"/>
    <child link="RL_thigh_shoulder"/>
  </joint>
  <!-- this link is only for collision -->
  <link name="RL_thigh_shoulder">
    <!-- <collision>
      <origin rpy="1.57079632679 0 0" xyz="0 0 0"/>
      <geometry>
        <cylinder length="0.032" radius="0.041"/>
      </geometry>
    </collision> -->
  </link>
  <joint name="RL_thigh_joint" type="revolute">
    <origin rpy="0 0 0" xyz="0 0.08 0"/>
    <parent link="RL_hip"/>
    <child link="RL_thigh"/>
    <axis xyz="0 1 0"/>
    <dynamics damping="0" friction="0"/>
    <limit effort="23.7" lower="-0.663225115758" upper="2.96705972839" velocity="30.1"/>
  </joint>
  <link name="RL_thigh">
    <visual>
      <origin rpy="0 0 0" xyz="0 0 0"/>
      <geometry>
        <mesh filename="../meshes/thigh.dae" scale="1 1 1"/>
      </geometry>
      <material name="orange"/>
    </visual>
    <collision>
      <origin rpy="0 1.57079632679 0" xyz="0 0 -0.1065"/>
      <geometry>
        <box size="0.213 0.0245 0.034"/>
      </geometry>
    </collision>
    <inertial>
      <origin rpy="0 0 0" xyz="-0.003468 -0.018947 -0.032736"/>
      <mass value="0.92"/>
      <inertia ixx="0.005851561134" ixy="1.783284e-06" ixz="0.000328291374" iyy="0.005596155105" iyz="2.1430713e-05" izz="0.00107157026"/>
    </inertial>
  </link>
  <joint name="RL_calf_joint" type="revolute">
    <origin rpy="0 0 0" xyz="0 0 -0.213"/>
    <parent link="RL_thigh"/>
    <child link="RL_calf"/>
    <axis xyz="0 1 0"/>
    <dynamics damping="0" friction="0"/>
    <limit effort="23.7" lower="-2.72271363311" upper="-0.837758040957" velocity="30.1"/>
  </joint>
  <link name="RL_calf">
    <visual>
      <origin rpy="0 0 0" xyz="0 0 0"/>
      <geometry>
        <mesh filename="../meshes/calf.dae" scale="1 1 1"/>
      </geometry>
      <material name="orange"/>
    </visual>
    <collision>
      <origin rpy="0 1.57079632679 0" xyz="0 0 -0.1065"/>
      <geometry>
        <box size="0.213 0.016 0.016"/>
      </geometry>
    </collision>
    <inertial>
      <origin rpy="0 0 0" xyz="0.006286 0.001307 -0.122269"/>
      <mass value="0.131"/>
      <inertia ixx="0.002939186297" ixy="1.440899e-06" ixz="-0.00010535955" iyy="0.00295576935" iyz="-2.4397752e-05" izz="3.0273372e-05"/>
    </inertial>
  </link>
  <joint name="RL_foot_fixed" type="fixed" dont_collapse="true">
    <origin rpy="0 0 0" xyz="0 0 -0.213"/>
    <parent link="RL_calf"/>
    <child link="RL_foot"/>
  </joint>
  <link name="RL_foot">
    <visual>
      <origin rpy="0 0 0" xyz="0 0 0"/>
      <geometry>
        <sphere radius="0.01"/>
      </geometry>
      <material name="orange"/>
    </visual>
    <collision>
      <origin rpy="0 0 0" xyz="0 0 0"/>
      <geometry>
        <sphere radius="0.02"/>
      </geometry>
    </collision>
    <inertial>
      <mass value="0.06"/>
      <inertia ixx="9.6e-06" ixy="0.0" ixz="0.0" iyy="9.6e-06" iyz="0.0" izz="9.6e-06"/>
    </inertial>
  </link>
  <transmission name="RL_hip_tran">
    <type>transmission_interface/SimpleTransmission</type>
    <joint name="RL_hip_joint">
      <hardwareInterface>hardware_interface/EffortJointInterface</hardwareInterface>
    </joint>
    <actuator name="RL_hip_motor">
      <hardwareInterface>hardware_interface/EffortJointInterface</hardwareInterface>
      <mechanicalReduction>1</mechanicalReduction>
    </actuator>
  </transmission>
  <transmission name="RL_thigh_tran">
    <type>transmission_interface/SimpleTransmission</type>
    <joint name="RL_thigh_joint">
      <hardwareInterface>hardware_interface/EffortJointInterface</hardwareInterface>
    </joint>
    <actuator name="RL_thigh_motor">
      <hardwareInterface>hardware_interface/EffortJointInterface</hardwareInterface>
      <mechanicalReduction>1</mechanicalReduction>
    </actuator>
  </transmission>
  <transmission name="RL_calf_tran">
    <type>transmission_interface/SimpleTransmission</type>
    <joint name="RL_calf_joint">
      <hardwareInterface>hardware_interface/EffortJointInterface</hardwareInterface>
    </joint>
    <actuator name="RL_calf_motor">
      <hardwareInterface>hardware_interface/EffortJointInterface</hardwareInterface>
      <mechanicalReduction>1</mechanicalReduction>
    </actuator>
  </transmission>

</robot>
